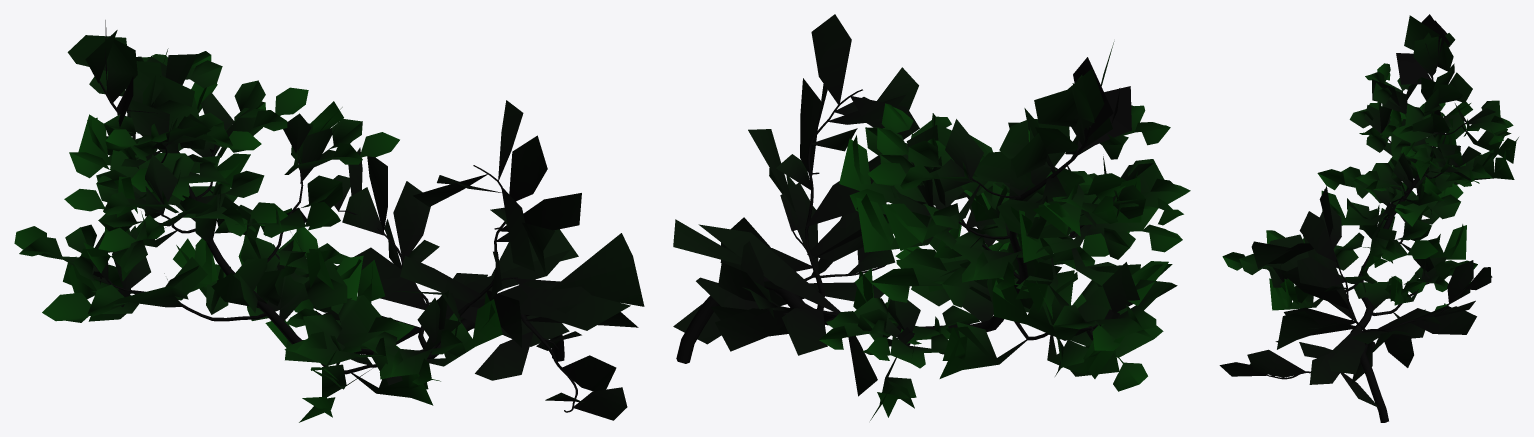
The model's file is Pine_beach_crooked_02.fbx.
3 renders of one model, left to right at view 1: azimuth 30°, elevation 25°; view 2: azimuth 150°, elevation 25°; view 3: azimuth 270°, elevation 25°, orthographic. The views are drawn at different scales.
Visible parts, largest first — view 1: pine_beach_crooked_02_LOD0; view 2: pine_beach_crooked_02_LOD0; view 3: pine_beach_crooked_02_LOD0.
Boxes of the visible parts, box(x1,y1,x2,y2) form: pine_beach_crooked_02_LOD0: box(14, 20, 644, 422); pine_beach_crooked_02_LOD0: box(673, 14, 1190, 420); pine_beach_crooked_02_LOD0: box(1219, 14, 1518, 422).
Size of what is drawn, in the model's own units: 210 by 166 by 164.
